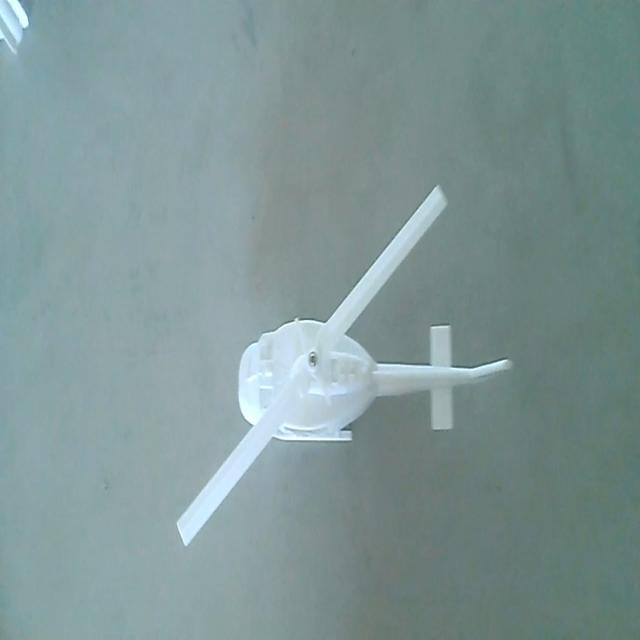Helicopter: (165, 177, 516, 574)
